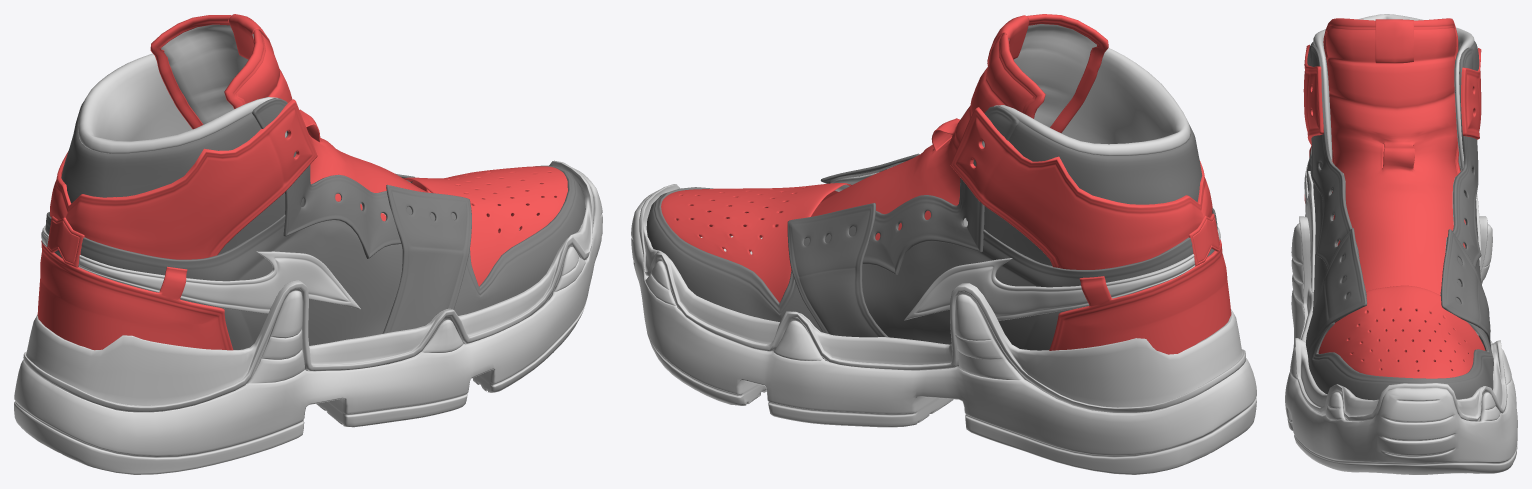
Rendered from SM_Sneaker.fbx.
3 views of the same model, side by side, from view 1: azimuth 30°, elevation 25°; view 2: azimuth 150°, elevation 25°; view 3: azimuth 270°, elevation 25° (orthographic). The views are drawn at different scales.
Visible parts, largest first — view 1: SM_Sneaker; view 2: SM_Sneaker; view 3: SM_Sneaker.
Boxes of the visible parts, left/top/right/bottom form: SM_Sneaker: left=14, top=14, right=602, bottom=474; SM_Sneaker: left=631, top=14, right=1256, bottom=474; SM_Sneaker: left=1285, top=14, right=1517, bottom=474.
Size of the model in its own units: 30.93 by 19.58 by 12.02.
